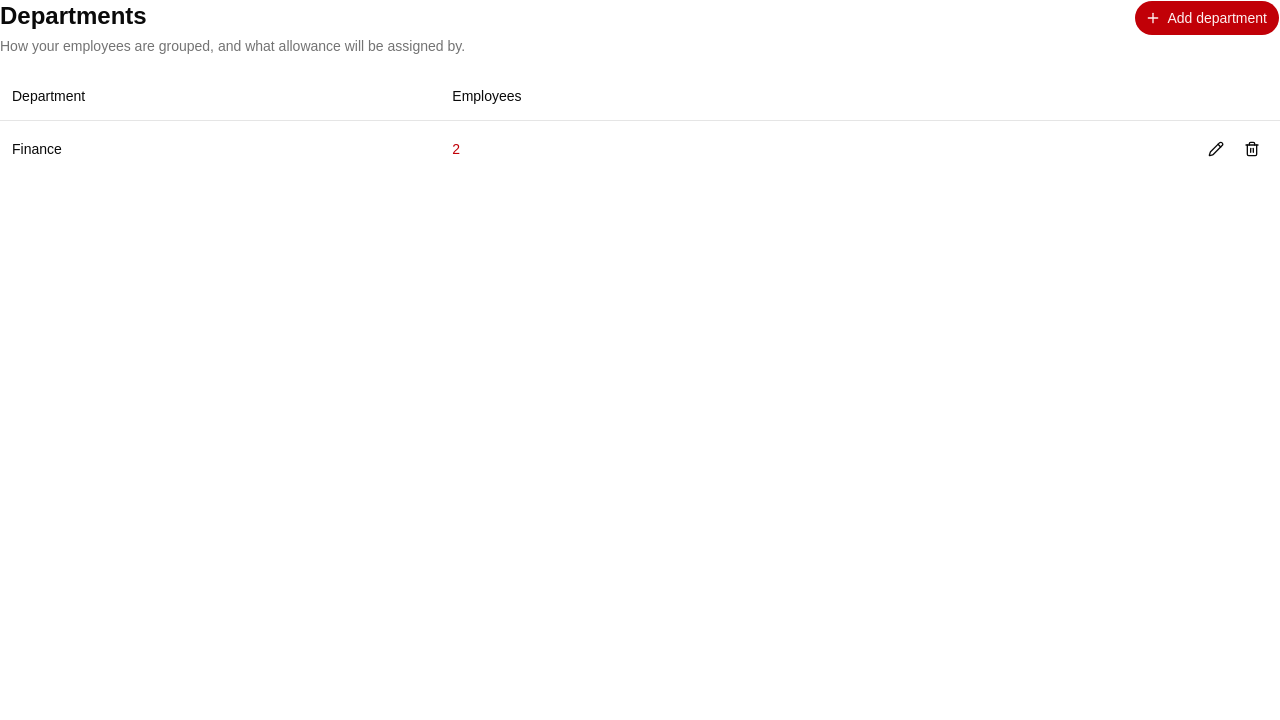
DepartmentsPage › puts a name collision on the field, in plain words
The image size is (1280, 720).
Expected: the text "Finance" is shown, [0,120,440,176]
Click the button "Add department" at (1207, 18), box [1134,0,1279,36]
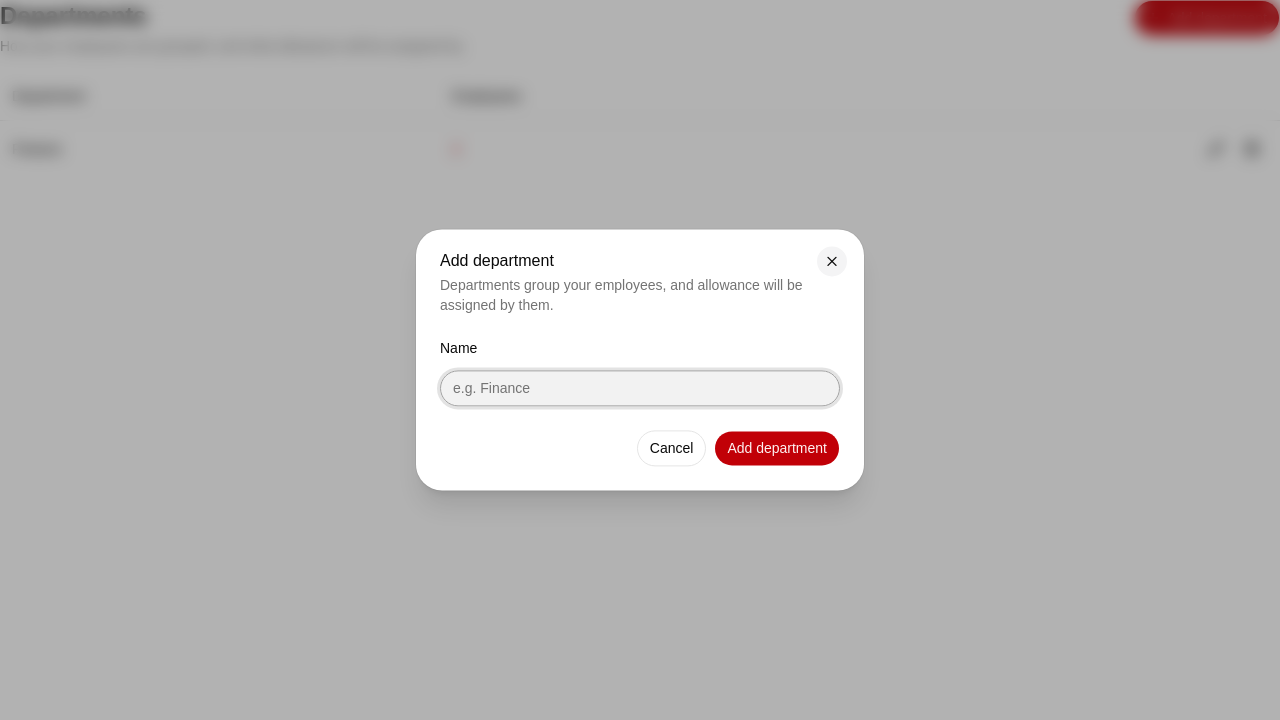
Type "finance" into the field labelled "Name" at (640, 389), box [440,371,840,407]
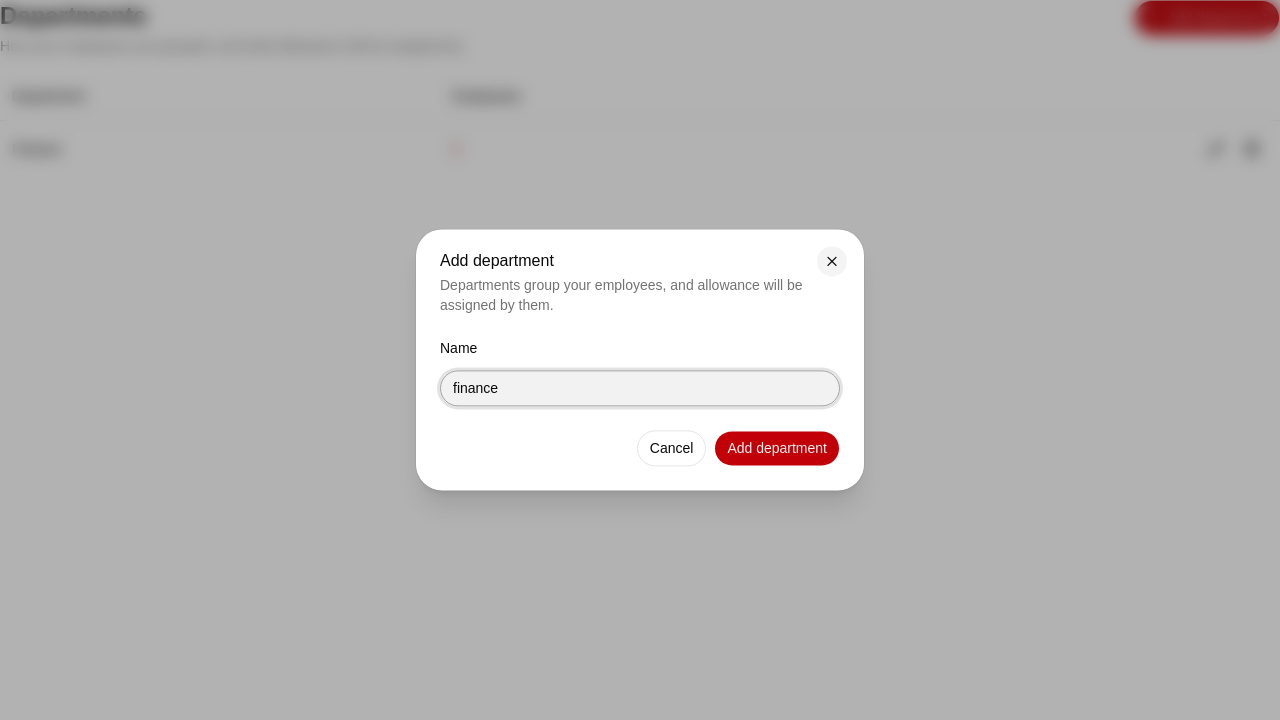
Click the button "Add department" at (777, 449), box [714,431,840,467]
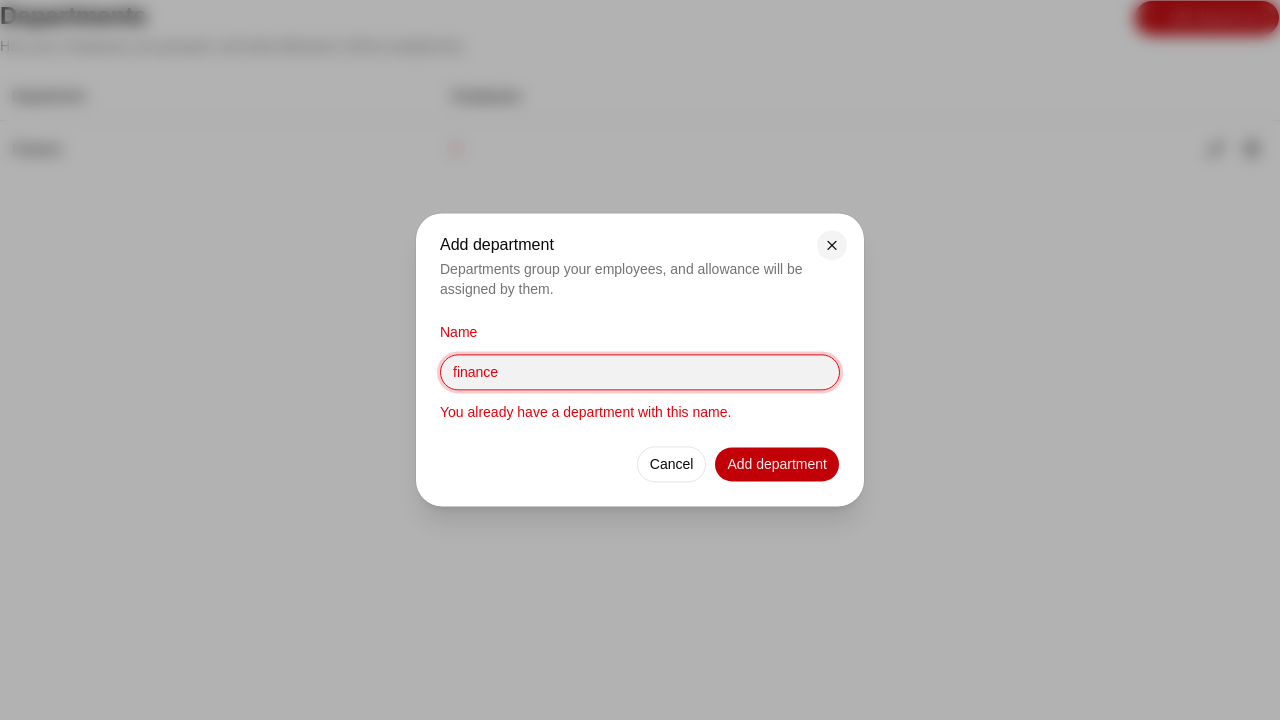
Now the text "You already have a department with this name." is shown, box [440,405,731,421]
